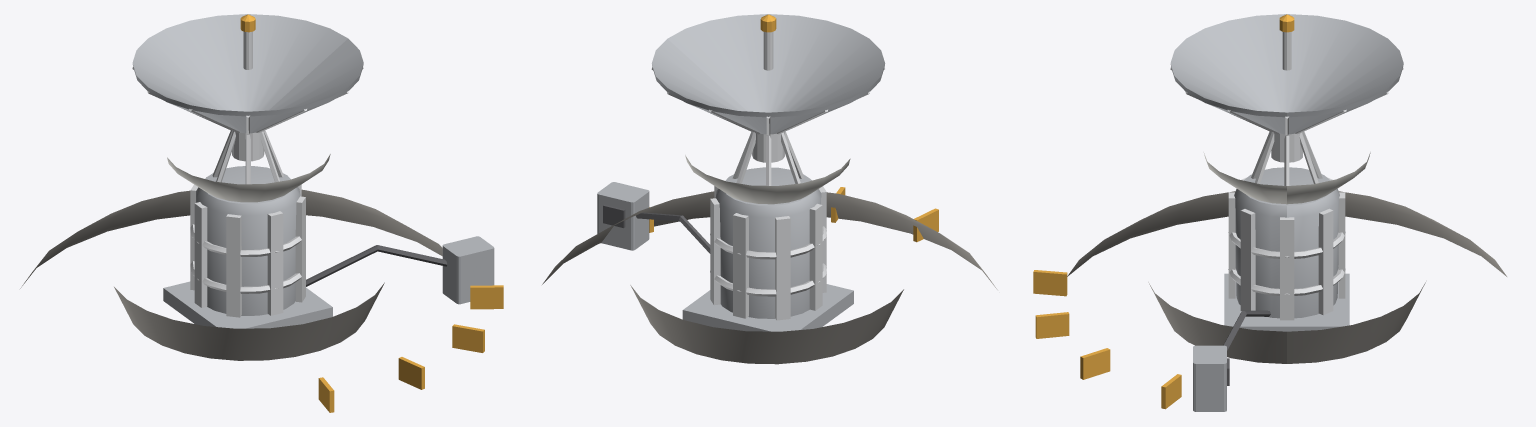
Rendered from nuclear-power-unit-8239903e.glb.
3 views of the same model, side by side, from view 1: azimuth 30°, elevation 25°; view 2: azimuth 150°, elevation 25°; view 3: azimuth 270°, elevation 25° (orthographic).
Visible parts, largest first — view 1: nuclear-power-unit; view 2: nuclear-power-unit; view 3: nuclear-power-unit.
Part boxes in pixels (box(x1,y1,x2,y2)): nuclear-power-unit: box(20, 14, 503, 412); nuclear-power-unit: box(542, 14, 997, 364); nuclear-power-unit: box(1033, 14, 1506, 411).
Size of the model in its own units: 9.8 by 6.84 by 10.13.
